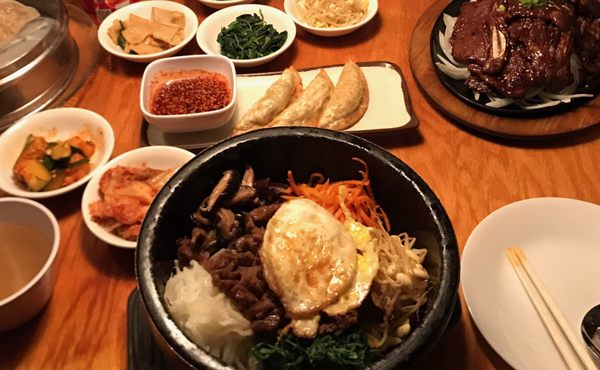sandwich: (505, 246, 599, 368)
sushi: (135, 127, 461, 367), (460, 195, 600, 367), (81, 144, 195, 250), (1, 105, 116, 200), (139, 53, 238, 141), (0, 197, 61, 334), (195, 2, 298, 72), (97, 0, 199, 63), (284, 0, 379, 36)
